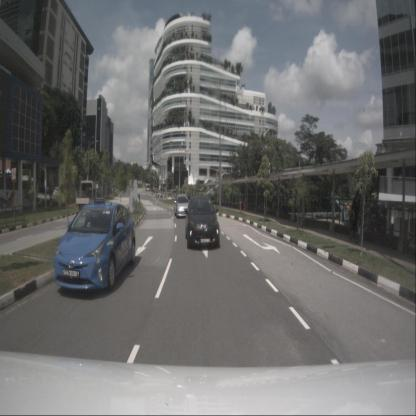human-pedestrian-adult: (349, 191, 362, 243)
vehicle-car: (54, 199, 136, 295), (185, 197, 221, 249), (174, 193, 190, 218)
